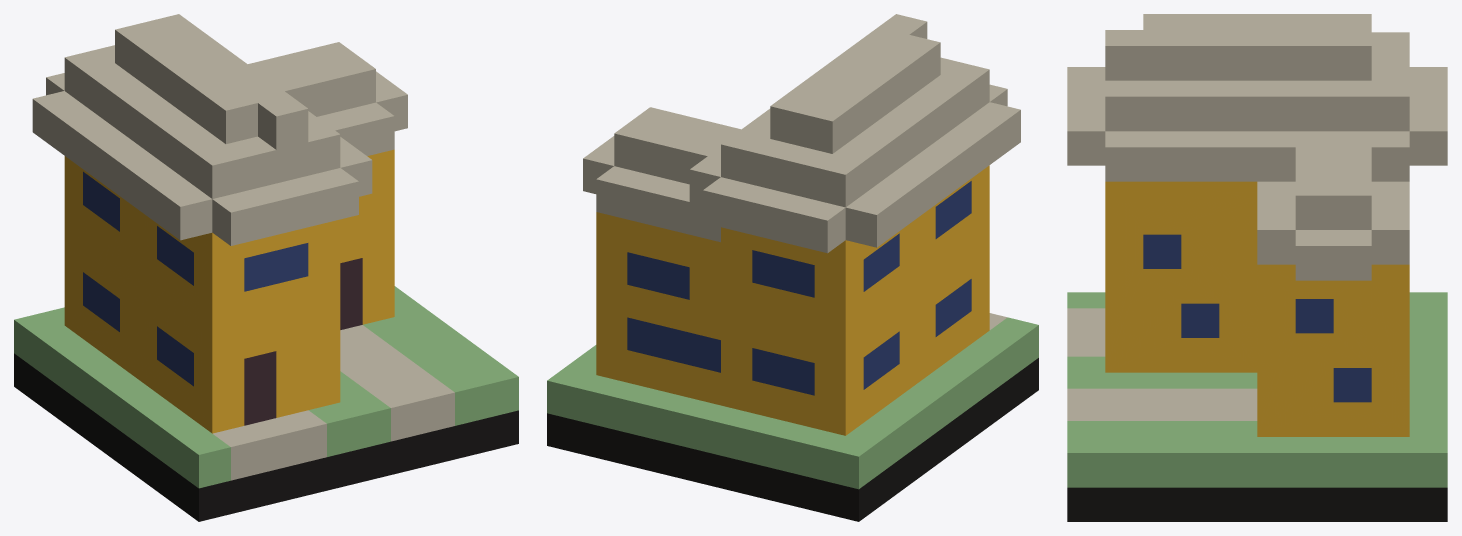
The model's file is building4.obj.
The picture shows the model from 3 angles, left to right: view 1: azimuth 30°, elevation 25°; view 2: azimuth 150°, elevation 25°; view 3: azimuth 270°, elevation 25°; orthographic projection. The views are drawn at different scales.
Size of the model in its own units: 1 by 1.1 by 1.
1 material, 1 textured.
